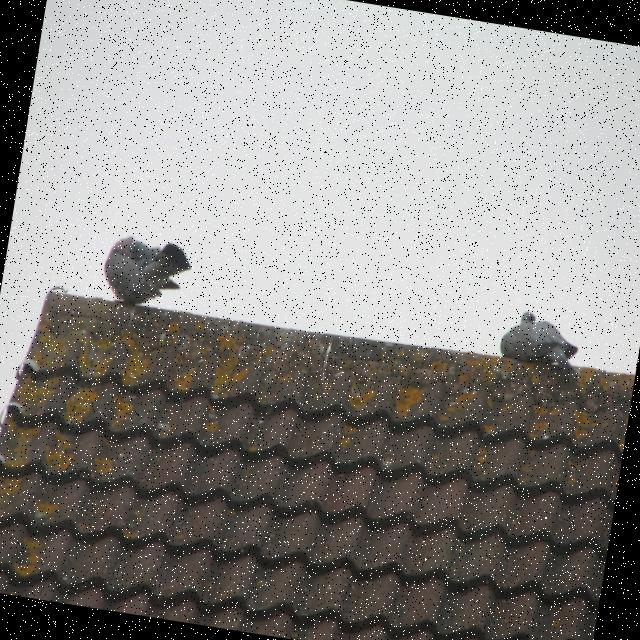bird: (98, 232, 196, 316), (496, 306, 588, 383)
